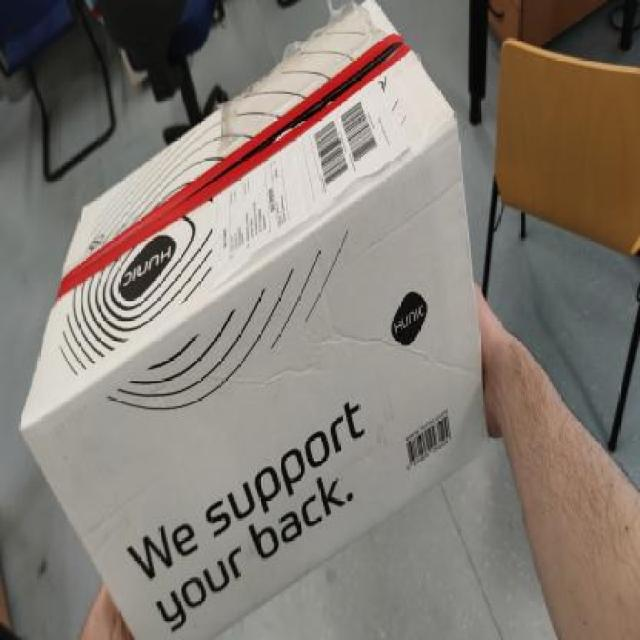box: (21, 0, 534, 640)
